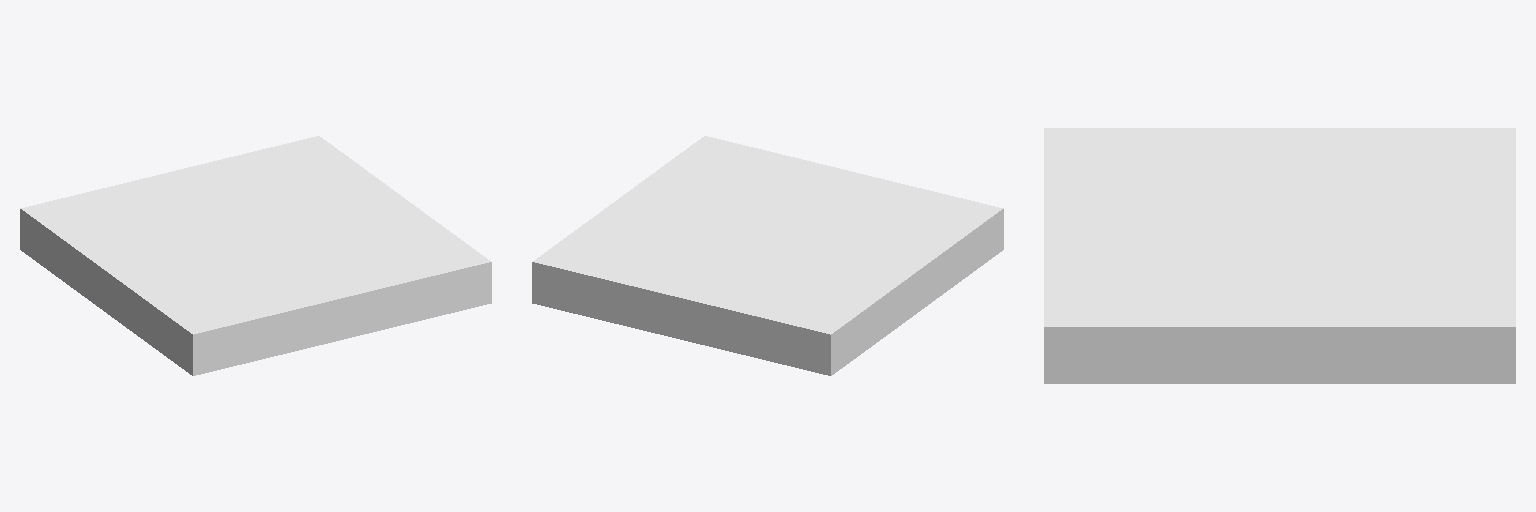
The robot description file, URDF, robot "block1.urdf":
<?xml version="0.0" ?>
<robot name="block1.urdf">
  <link name="baseLink">
    <contact>
      <lateral_friction value="0.3"/>
      <inertia_scaling value="3.0"/>
    </contact>
    <inertial>
      <origin rpy="0 0 0" xyz="0 0 0"/>
       <mass value=".01"/>
       <inertia ixx="1" ixy="0" ixz="0" iyy="1" iyz="0" izz="1"/>
    </inertial>
    <visual>
      <origin rpy="0 0 0" xyz="0 0 0"/>
      <geometry>
				<box size=".3 .3 .04"/>
      </geometry>
       <material name="white">
        <color rgba="1 1 1 1"/>
      </material>
    </visual>
    <collision>
      <origin rpy="0 0 0" xyz="0 0 0"/>
      <geometry>
	 	<box size=".3 .3 .04"/>
      </geometry>
    </collision>
  </link>
</robot>

--- Render facts (derived) ---
3 views of the same robot in one strip: view 1: azimuth 30°, elevation 25°; view 2: azimuth 150°, elevation 25°; view 3: azimuth 270°, elevation 25° (orthographic).
Robot: block1.urdf — 1 links, 0 joints (none); root link baseLink; default pose: every joint at zero.
Links seen in each view (by area): view 1: baseLink; view 2: baseLink; view 3: baseLink.
Boxes of the visible links, x1=… form: baseLink: x1=20, y1=136, x2=491, y2=375; baseLink: x1=532, y1=136, x2=1003, y2=375; baseLink: x1=1044, y1=128, x2=1515, y2=383.
Size in the robot's own frame: 0.3 by 0.3 by 0.04 metres.
Geometry: primitives only (box / cylinder / sphere), no mesh files.